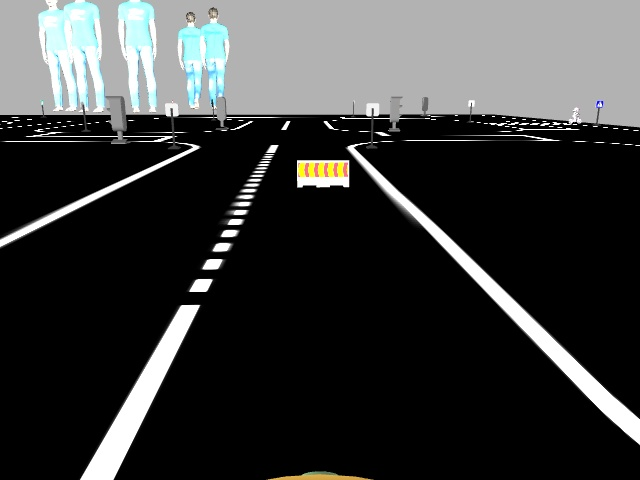ClosedRoadStand: (296, 159, 350, 186)
